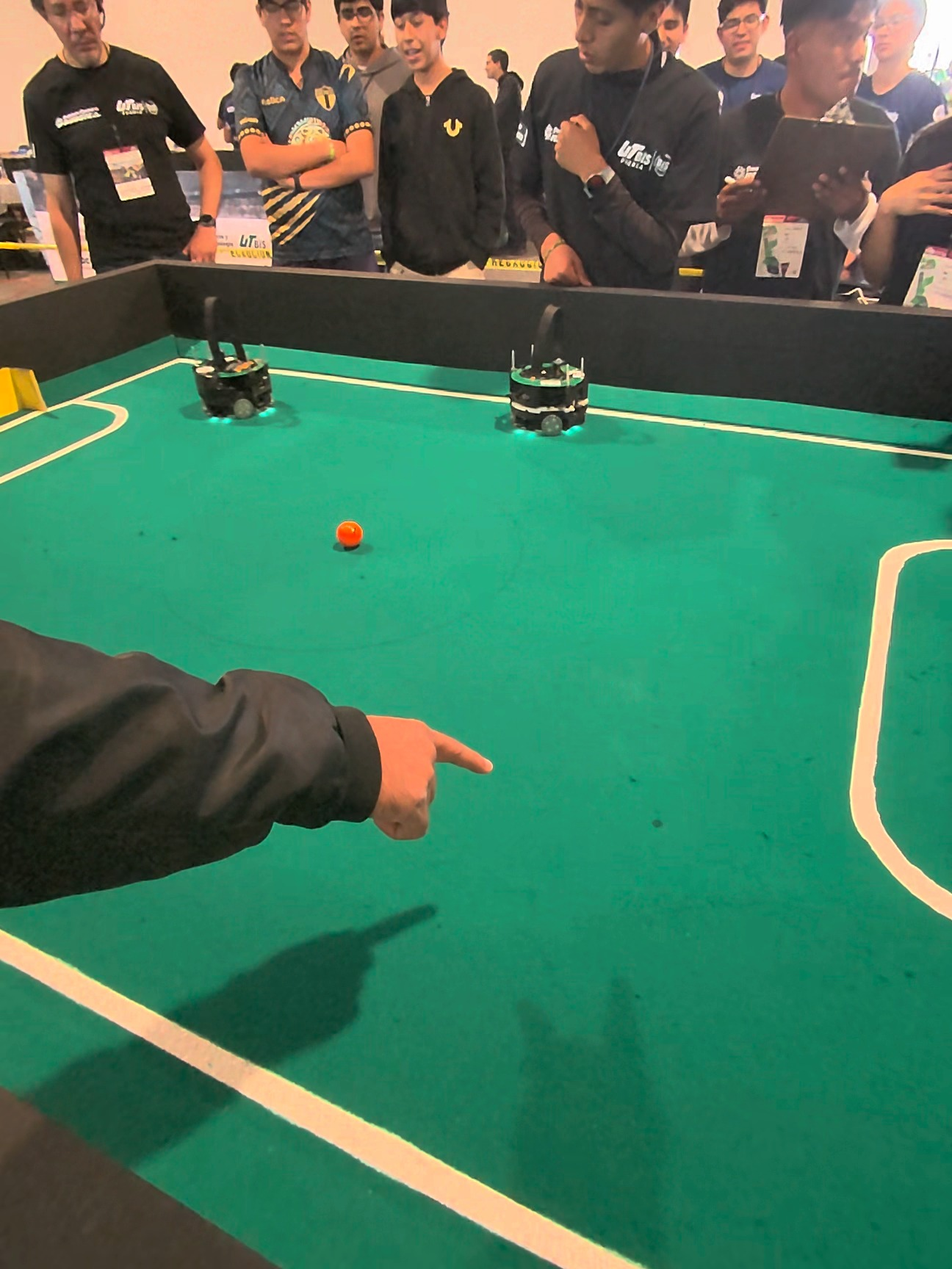Robot: (498, 301, 598, 460), (188, 297, 278, 434)
pelota: (334, 524, 363, 553)
